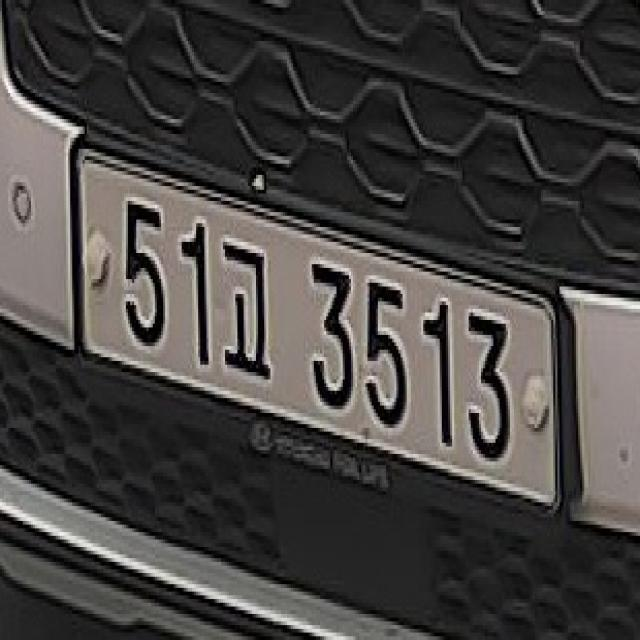1: (418, 290, 457, 460), (176, 212, 211, 379)
3: (463, 301, 515, 472), (306, 250, 356, 420)
5: (364, 266, 414, 437), (118, 194, 168, 364)
do: (218, 222, 276, 391)
license_plate: (72, 142, 588, 543)
